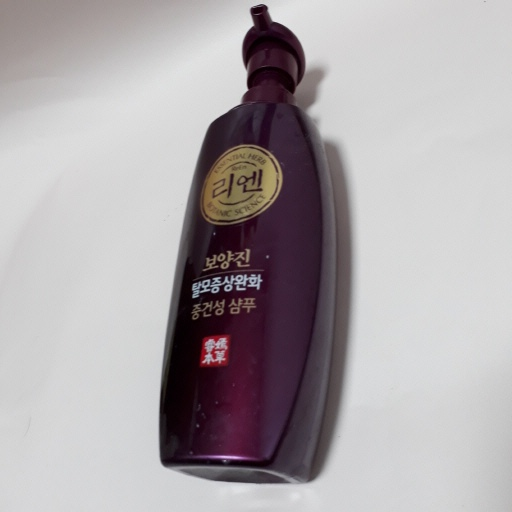Plastic_3: (157, 3, 340, 487)
